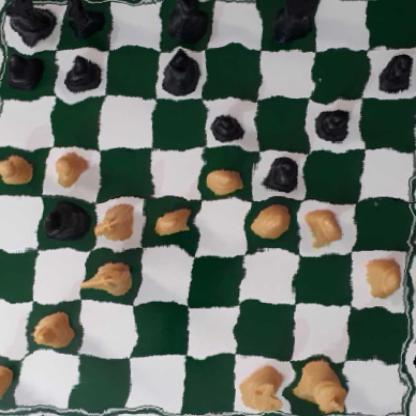black-bishop: (45, 200, 92, 243), (161, 51, 200, 97)
black-king: (164, 0, 212, 47)
black-knight: (58, 0, 106, 38)
black-pawn: (257, 155, 302, 196), (372, 53, 416, 94), (3, 48, 46, 89), (213, 108, 254, 147), (61, 53, 102, 92), (312, 104, 354, 142)
black-rook: (0, 0, 58, 42), (268, 0, 318, 45)
white-bishop: (31, 307, 76, 353)
white-king: (293, 361, 349, 416)
white-knight: (78, 256, 133, 301), (89, 198, 137, 243)
white-pawn: (356, 253, 404, 302), (303, 203, 348, 249), (248, 201, 292, 241), (149, 203, 199, 238), (205, 160, 247, 199), (49, 152, 93, 188), (0, 151, 38, 187)
white-rook: (238, 368, 292, 414), (0, 355, 17, 406)
